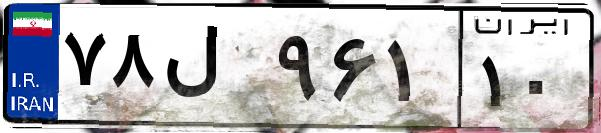0: (525, 38, 570, 115)
1: (385, 28, 445, 110), (475, 38, 525, 113)
6: (330, 28, 385, 110)
7: (57, 26, 110, 100)
8: (110, 28, 158, 98)
9: (270, 28, 330, 110)
ل: (158, 20, 270, 120)
